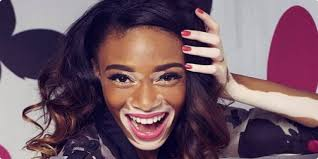vitiligo: (59, 25, 302, 148)
